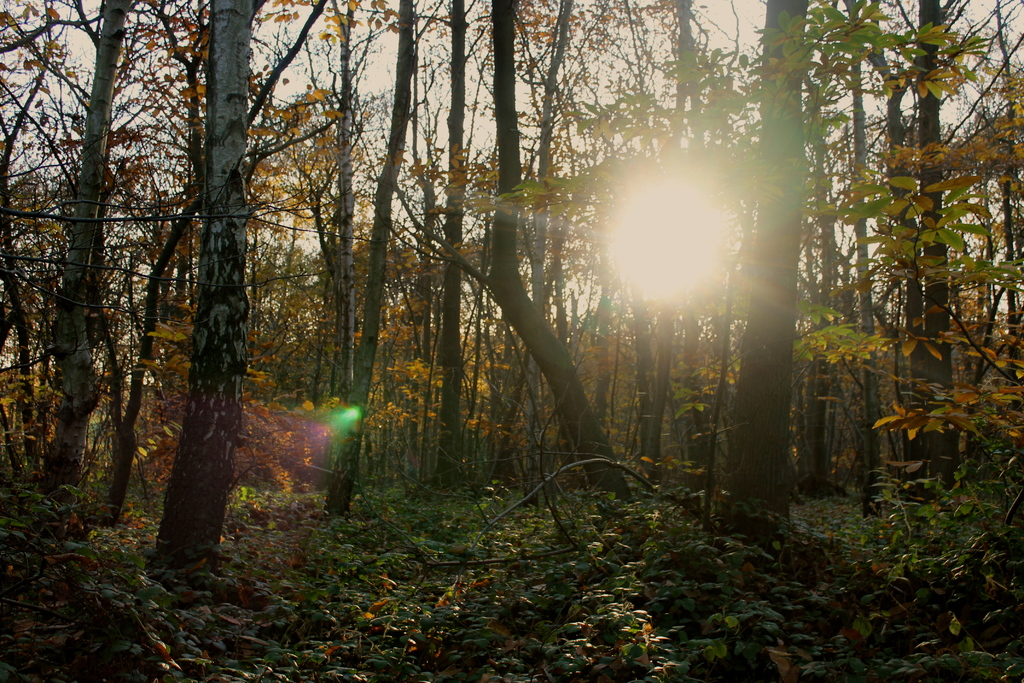Tree: (0, 3, 1023, 682)
